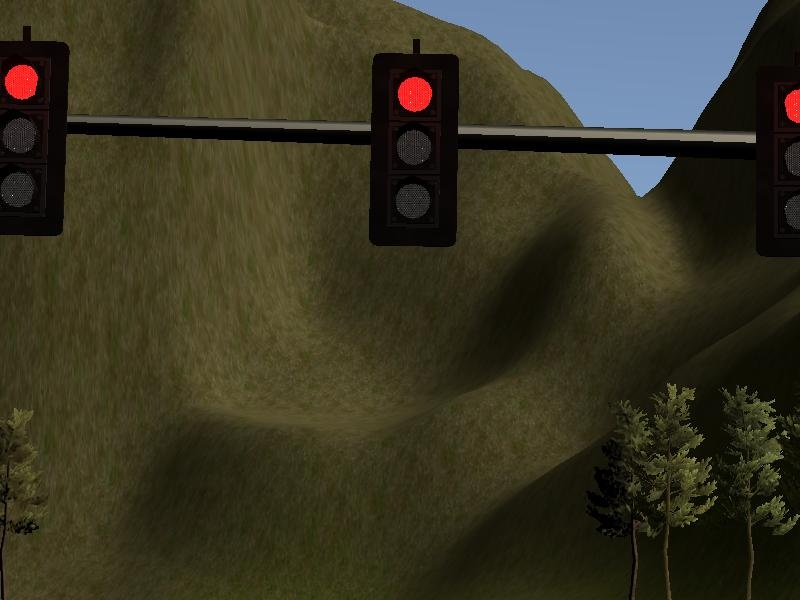red: (363, 45, 467, 258), (1, 39, 75, 248), (748, 62, 800, 258)
